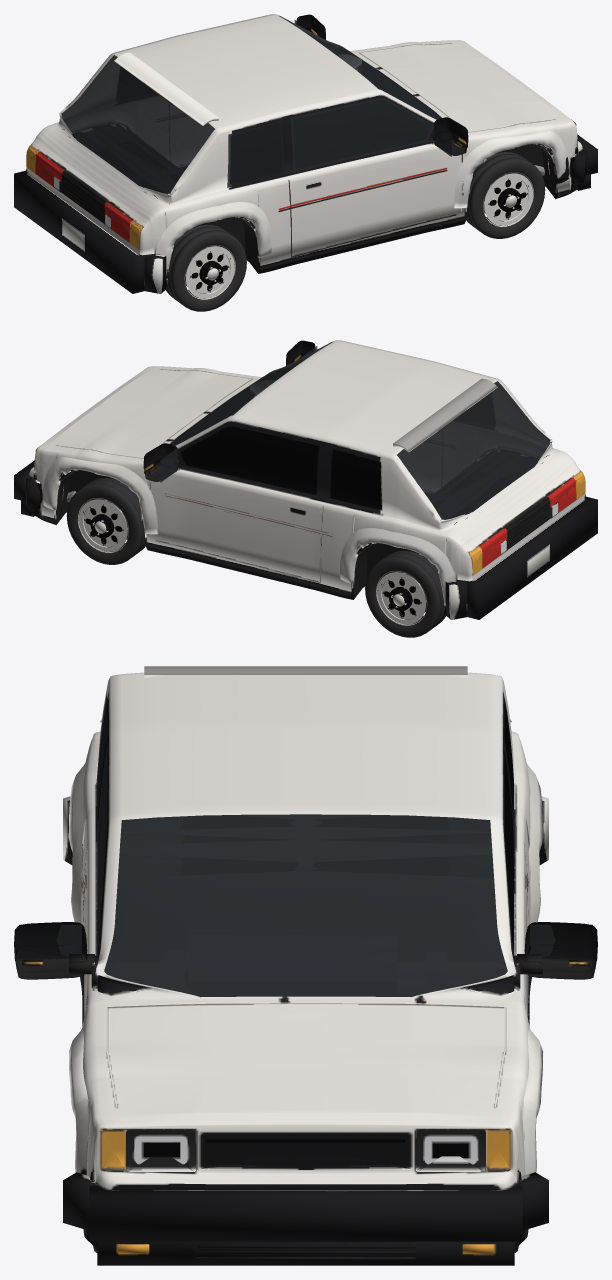
The model's file is hatch_baked.glb.
3 renders of one model, top to bottom at view 1: azimuth 30°, elevation 25°; view 2: azimuth 150°, elevation 25°; view 3: azimuth 270°, elevation 25°, orthographic. The views are drawn at different scales.
Parts seen in each view (by area): view 1: body, hood, wheel_rr, wheel_fr, bay, lamp_tail, hide, lamp_amber; view 2: body, hood, wheel_rl, wheel_fl, bay, lamp_tail, hide, lamp_amber; view 3: body, hood, lamp_amber, lamp_head.
Boxes of the visible parts, left/top/right/bottom form: body: left=14, top=14, right=597, bottom=293; hood: left=359, top=42, right=563, bottom=132; wheel_rr: left=166, top=224, right=246, bottom=311; wheel_fr: left=466, top=152, right=545, bottom=238; bay: left=362, top=61, right=549, bottom=194; lamp_tail: left=34, top=84, right=173, bottom=242; hide: left=495, top=144, right=549, bottom=188; lamp_amber: left=26, top=119, right=576, bottom=248; body: left=14, top=340, right=597, bottom=619; hood: left=48, top=368, right=252, bottom=458; wheel_rl: left=365, top=550, right=445, bottom=637; wheel_fl: left=66, top=478, right=145, bottom=564; bay: left=62, top=387, right=249, bottom=520; lamp_tail: left=438, top=410, right=577, bottom=568; hide: left=62, top=470, right=116, bottom=514; lamp_amber: left=35, top=445, right=585, bottom=574; body: left=14, top=666, right=597, bottom=1265; hood: left=106, top=1003, right=505, bottom=1116; lamp_amber: left=22, top=960, right=589, bottom=1254; lamp_head: left=135, top=1137, right=476, bottom=1164.
Bounding box in the file's own units: 3.76 × 1.38 × 2.24.
Materials: 16 (6 with a texture image).
